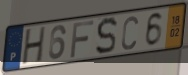6: (48, 24, 68, 61), (144, 11, 164, 48)
C: (120, 15, 140, 52)
F: (69, 19, 95, 59)
H: (21, 25, 48, 67)
S: (94, 16, 119, 57)
